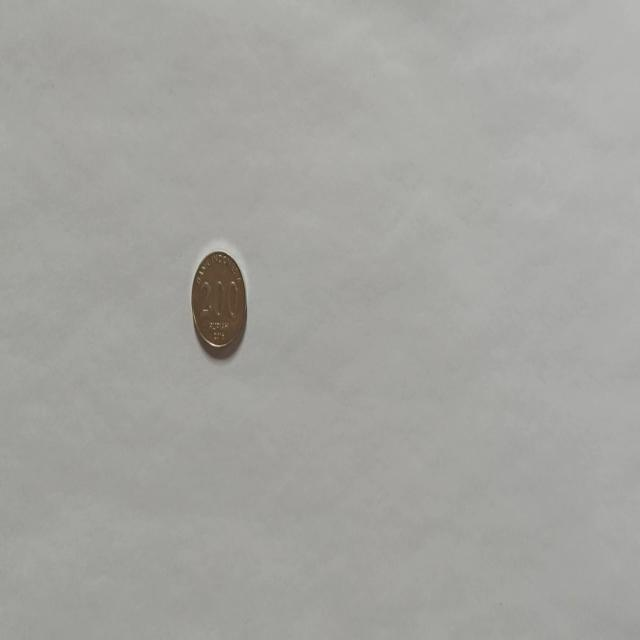dua ratus rupiah: (190, 248, 247, 355)
